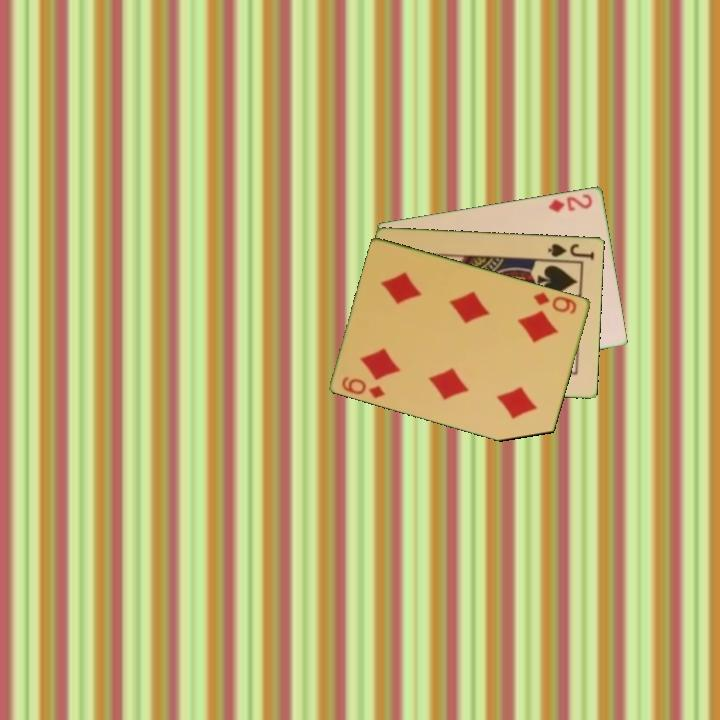2d: (545, 190, 595, 215)
6d: (530, 288, 580, 317), (338, 373, 388, 401)
Js: (545, 240, 598, 262)
